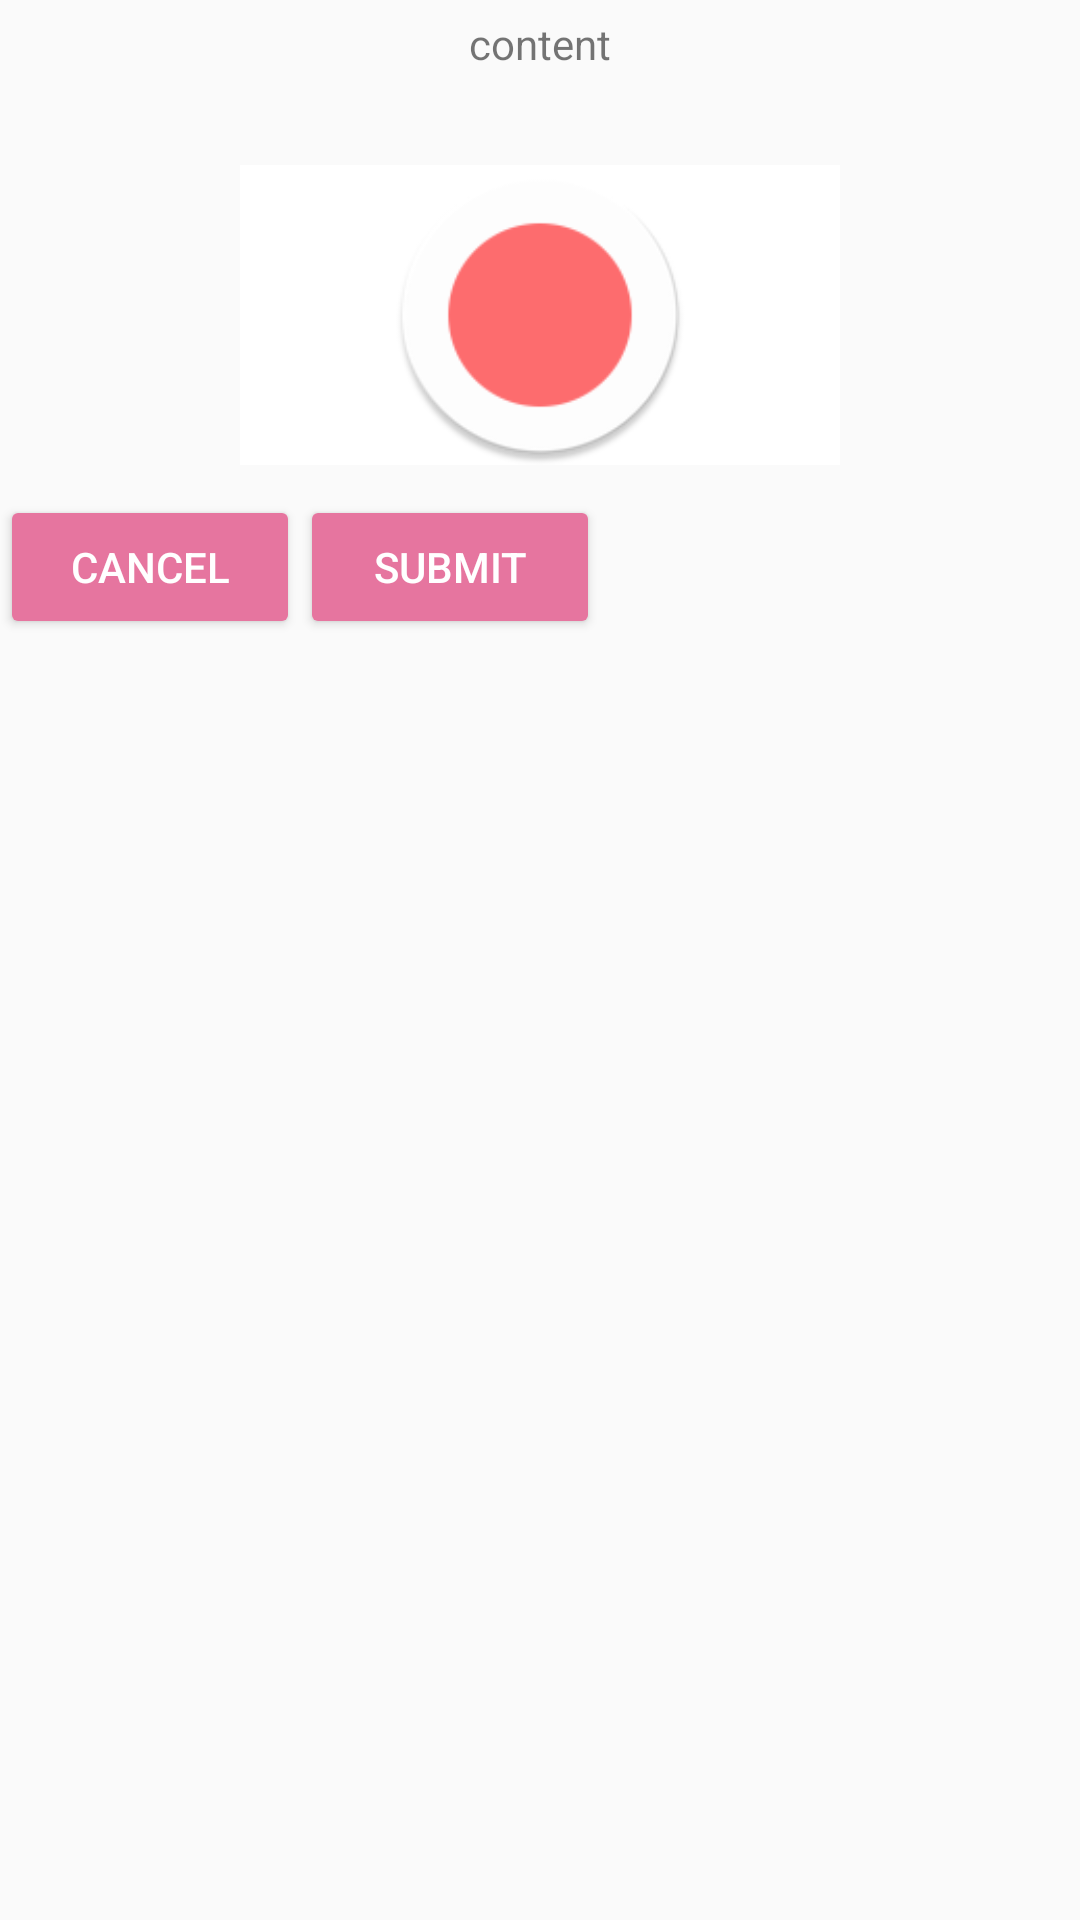

Icon click points for this 1080w x 1920h phone screenshot, format (x,y):
recording: (542,341)
